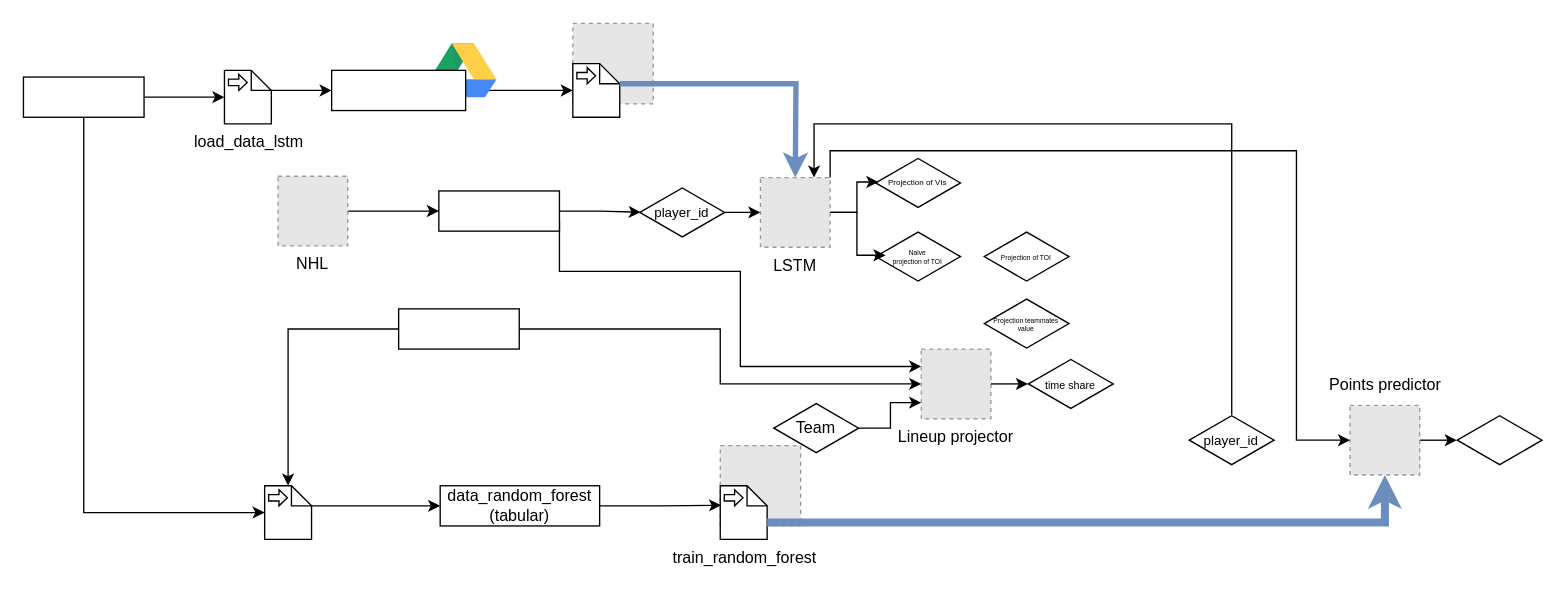
The diagram is 1566 pixels wide and 591 high, and some of its shapes have lost their labels. Grey dashed boxes stand in for pictures. The centre of each missing label's shape, as x and y in pixels:
data_lstm (json): the point at 398,90
Last season lines: the point at 458,328
load_data_random_forest: the point at 287,511
Player season stats (tabular): the point at 83,96
Points: the point at 1499,439
Projected rosters (tabular): the point at 498,210
train_lstm: the point at 596,89
